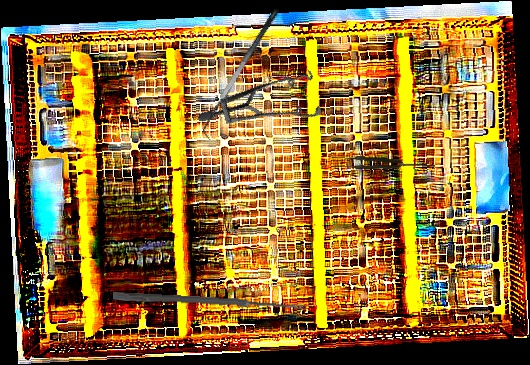Spatula Surgical: (194, 6, 291, 141)
Speculum: (197, 39, 334, 161)
Surgical Spoon: (112, 291, 307, 312)
Tissue Forceps: (331, 154, 436, 174)
